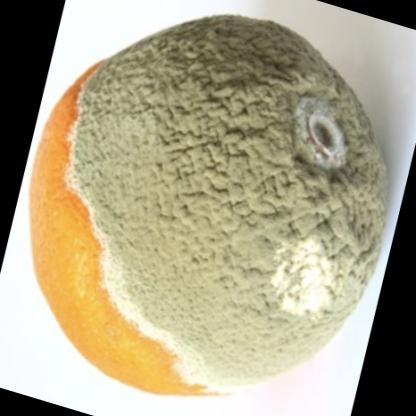rotten: (30, 17, 387, 396)
